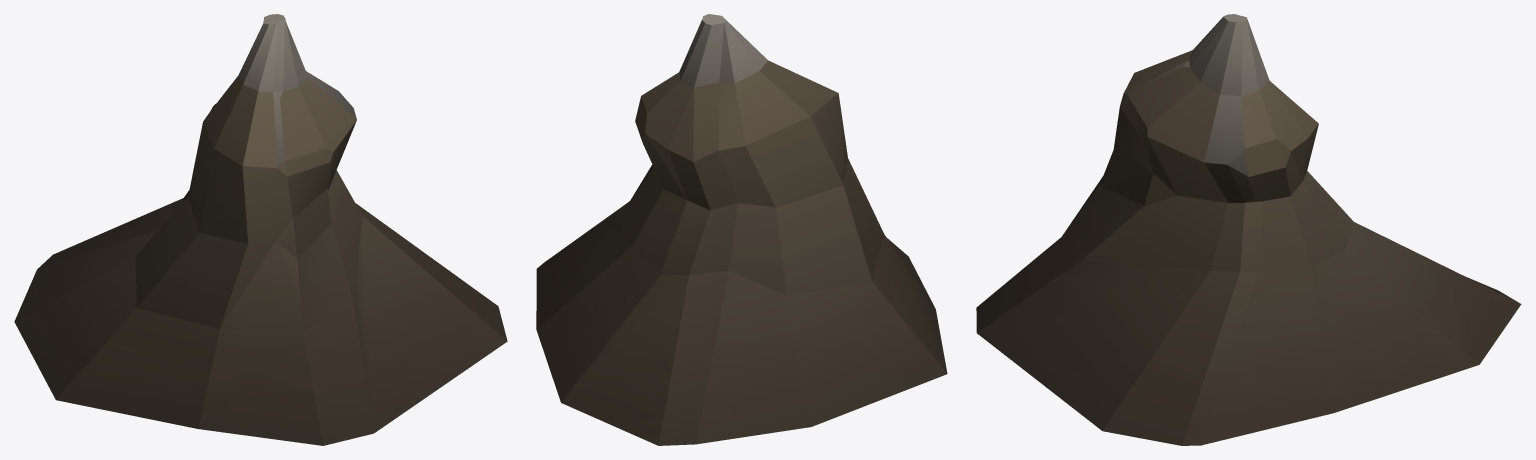
File: Mountain_A.fbx
3 views of the same model, side by side, from view 1: azimuth 30°, elevation 25°; view 2: azimuth 150°, elevation 25°; view 3: azimuth 270°, elevation 25° (orthographic). The views are drawn at different scales.
Visible parts, largest first — view 1: Mountain_A; view 2: Mountain_A; view 3: Mountain_A.
Boxes of the visible parts, x1,y1,x2,y2 form: Mountain_A: (14, 14, 507, 445); Mountain_A: (536, 14, 947, 445); Mountain_A: (976, 14, 1521, 445).
Size of the model in its own units: 13997 by 14929 by 9931.
Materials: 1 (1 with a texture image).
